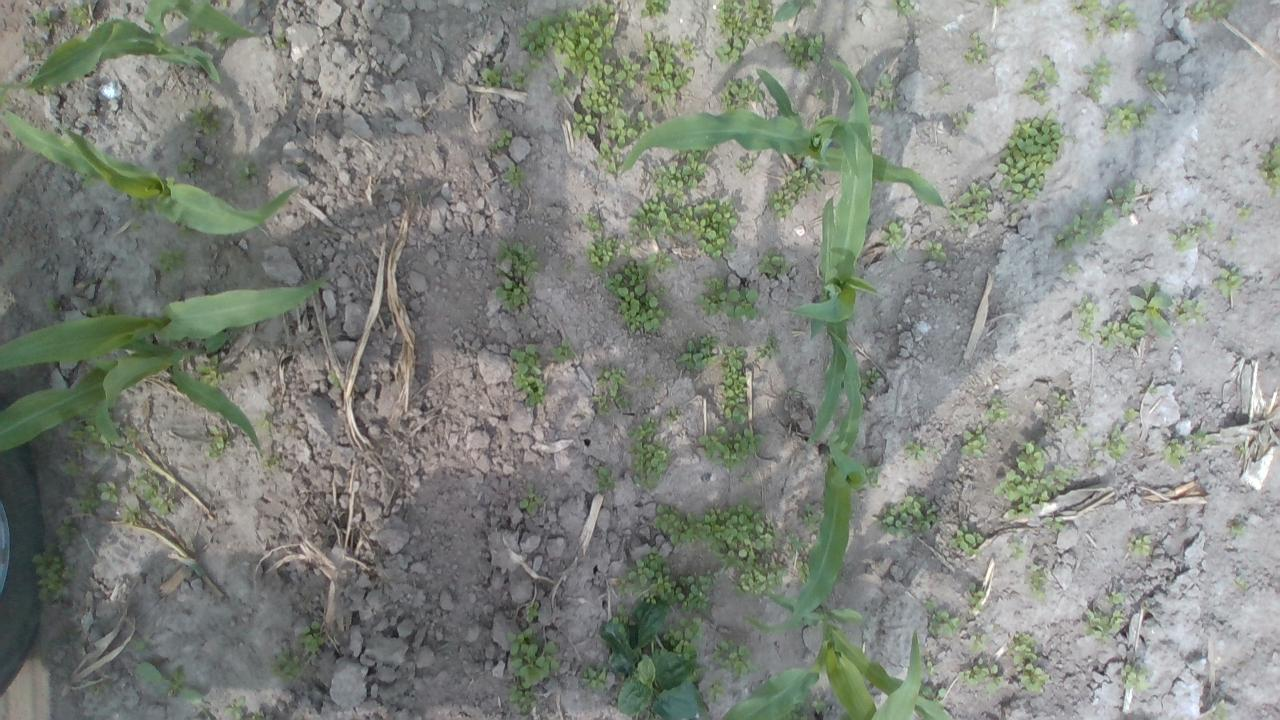Maize: (619, 47, 964, 235), (745, 326, 875, 638), (0, 106, 300, 237), (786, 57, 884, 447), (0, 332, 264, 459), (0, 274, 334, 372), (718, 592, 957, 720), (0, 0, 249, 90), (812, 626, 924, 720), (774, 0, 812, 25)
Weeds: (602, 596, 713, 720), (992, 437, 1076, 522), (518, 0, 618, 70), (998, 112, 1064, 202), (701, 496, 775, 570), (604, 260, 672, 335), (640, 31, 696, 111), (673, 194, 736, 260), (504, 626, 563, 686), (616, 550, 684, 602), (626, 415, 672, 489), (692, 275, 764, 322), (766, 162, 822, 219), (134, 660, 204, 704), (698, 425, 764, 471), (654, 148, 708, 203), (872, 495, 939, 539), (573, 56, 621, 114), (719, 342, 751, 424), (31, 544, 76, 602), (625, 197, 680, 244), (509, 342, 548, 408), (714, 0, 775, 41), (1010, 630, 1048, 695), (1126, 286, 1174, 336), (652, 502, 704, 546), (130, 468, 176, 514), (946, 182, 992, 227), (1020, 55, 1060, 106), (63, 415, 112, 456), (592, 366, 632, 416), (734, 564, 788, 600), (493, 238, 538, 279), (776, 32, 826, 68), (73, 478, 122, 514), (607, 107, 651, 147), (959, 656, 1004, 695), (712, 636, 758, 674), (675, 334, 720, 372), (718, 77, 766, 112), (679, 574, 719, 614), (1096, 319, 1145, 350), (1053, 210, 1089, 250), (1080, 56, 1110, 102), (1072, 0, 1103, 44), (188, 103, 224, 140), (585, 236, 619, 274), (926, 600, 960, 638), (1257, 142, 1280, 198), (1103, 104, 1143, 136), (494, 279, 530, 314), (948, 525, 984, 559), (1106, 180, 1138, 217), (1085, 608, 1123, 638), (508, 681, 540, 716), (612, 52, 642, 88), (207, 422, 233, 462), (194, 354, 226, 386), (296, 622, 326, 656), (714, 37, 748, 66), (1166, 224, 1201, 252), (270, 652, 302, 682), (962, 31, 991, 64), (958, 426, 987, 458), (1076, 296, 1098, 338), (595, 142, 623, 175), (1192, 0, 1234, 22), (1106, 422, 1130, 460), (1213, 268, 1243, 298), (758, 246, 788, 276), (1121, 663, 1150, 694), (1106, 3, 1138, 31), (917, 683, 948, 710), (881, 217, 907, 249), (642, 248, 674, 274), (798, 500, 822, 534), (1088, 208, 1116, 236), (502, 164, 530, 191), (858, 364, 879, 400), (119, 426, 143, 457), (1126, 532, 1154, 558), (580, 662, 606, 690), (1178, 299, 1208, 323), (902, 439, 931, 463), (159, 248, 187, 272), (520, 487, 544, 514), (594, 464, 616, 493), (56, 516, 78, 545), (572, 109, 594, 138), (755, 334, 779, 360), (1162, 439, 1186, 465), (984, 396, 1009, 420), (550, 339, 576, 362), (707, 678, 730, 704), (924, 238, 948, 262), (479, 63, 503, 87), (638, 0, 670, 18), (222, 694, 245, 718), (487, 128, 512, 150), (784, 699, 810, 720), (734, 147, 756, 171), (548, 74, 572, 96), (1028, 566, 1048, 592), (86, 302, 120, 317), (68, 5, 90, 28), (582, 210, 604, 232), (238, 162, 260, 184), (30, 8, 59, 24), (968, 581, 984, 610), (1148, 70, 1168, 93), (511, 70, 532, 91), (131, 196, 153, 216), (1192, 429, 1217, 446), (863, 465, 881, 487), (786, 534, 810, 550), (1198, 217, 1218, 236), (957, 108, 974, 130), (63, 459, 82, 478), (176, 156, 194, 176), (1210, 700, 1228, 720), (120, 506, 138, 525), (890, 0, 914, 14), (526, 601, 542, 621), (796, 559, 809, 583), (971, 635, 988, 652), (80, 171, 98, 187), (876, 74, 894, 90), (212, 30, 226, 50), (1044, 516, 1064, 530), (274, 27, 286, 50), (178, 224, 195, 240), (876, 99, 896, 112), (1054, 392, 1070, 408), (46, 294, 60, 312), (190, 24, 204, 41), (1230, 524, 1246, 538), (922, 660, 936, 676), (988, 0, 1012, 9), (24, 41, 38, 56), (1108, 591, 1122, 606), (665, 408, 679, 422), (816, 88, 831, 101), (1074, 424, 1086, 439), (810, 700, 826, 711), (1062, 263, 1078, 273), (1237, 207, 1250, 219), (1011, 546, 1024, 558), (1143, 103, 1156, 115), (621, 242, 632, 256), (1124, 408, 1138, 419), (135, 640, 150, 650), (1088, 454, 1100, 465), (330, 374, 340, 387), (25, 70, 38, 80), (1148, 384, 1158, 396), (104, 277, 115, 287), (1237, 446, 1247, 456), (0, 93, 9, 103)
